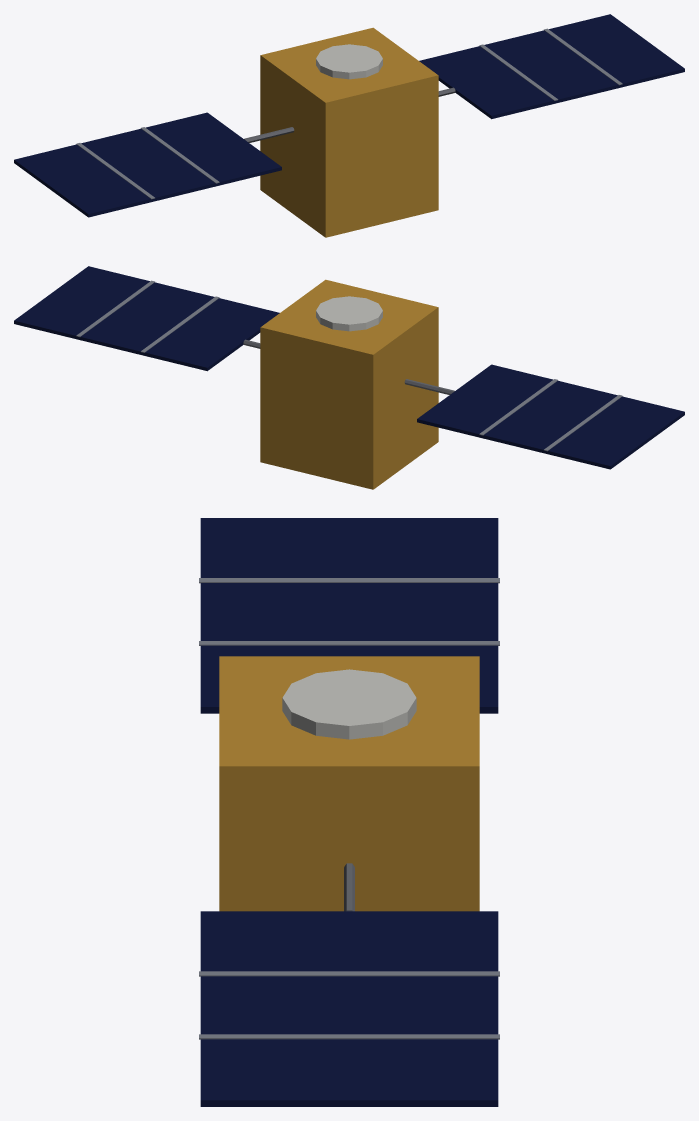
Rendered from microsat.glb.
3 views of the same model, one above another, from view 1: azimuth 30°, elevation 25°; view 2: azimuth 150°, elevation 25°; view 3: azimuth 270°, elevation 25° (orthographic). The views are drawn at different scales.
Parts seen in each view (by area): view 1: microsat; view 2: microsat; view 3: microsat.
Boxes of the visible parts, bbox=[...] form: microsat: bbox=[14, 14, 684, 237]; microsat: bbox=[14, 266, 684, 489]; microsat: bbox=[199, 518, 499, 1106].
Bounding box in the file's own units: 3.7 × 0.865 × 0.808.
